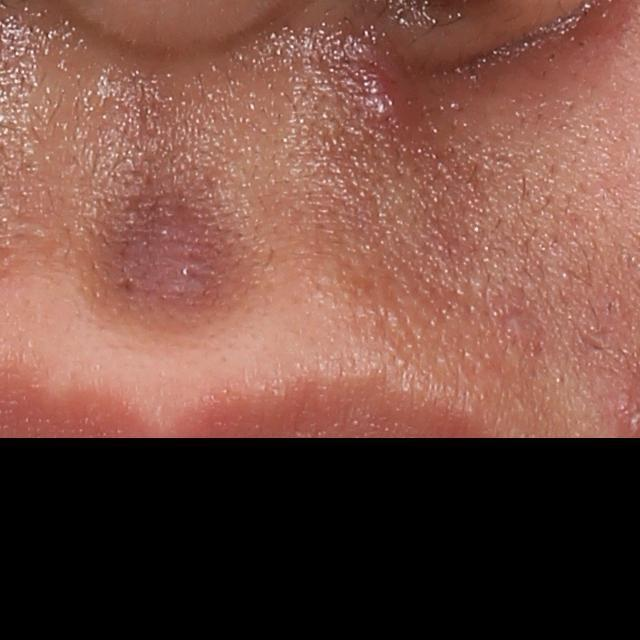papule: (357, 72, 414, 130)
